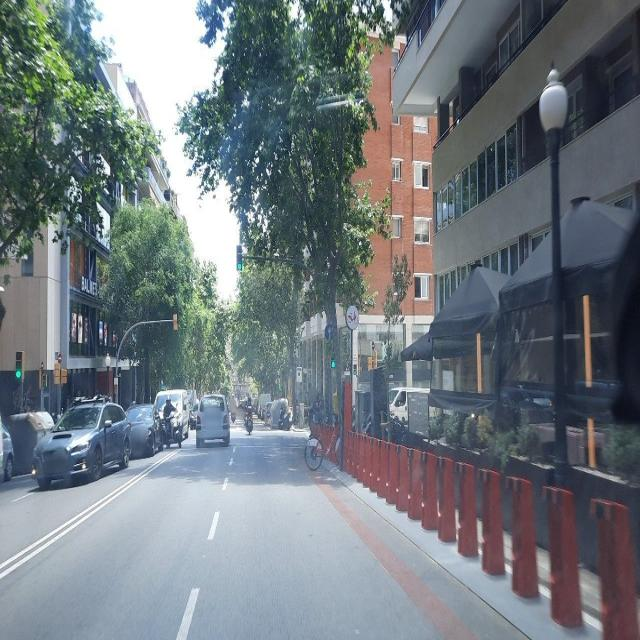car: (32, 397, 132, 491), (5, 410, 56, 477), (124, 402, 162, 458), (195, 392, 231, 448), (154, 388, 190, 442), (0, 408, 15, 490), (269, 398, 291, 430), (188, 400, 201, 430)
